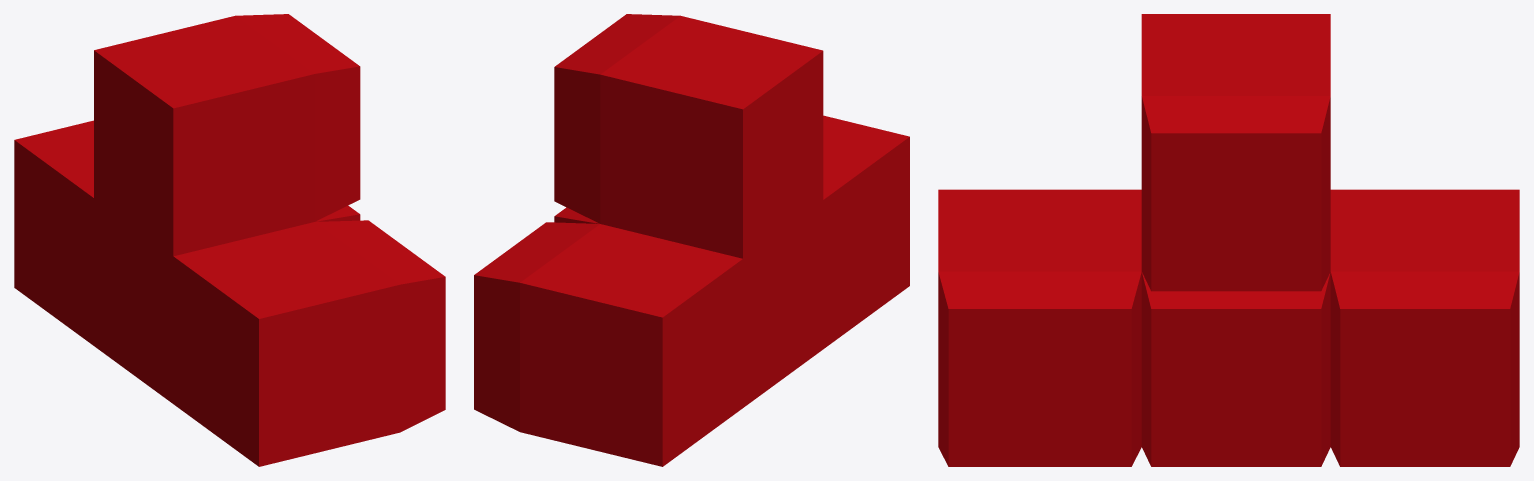
The model's file is teris-t-kol.dae.
The picture shows the model from 3 angles, left to right: view 1: azimuth 30°, elevation 25°; view 2: azimuth 150°, elevation 25°; view 3: azimuth 270°, elevation 25°; orthographic projection. The views are drawn at different scales.
Parts seen in each view (by area): view 1: Cube_004; view 2: Cube_004; view 3: Cube_004.
Boxes of the visible parts, x1,y1,x2,y2 form: Cube_004: (14, 14, 445, 466); Cube_004: (474, 14, 909, 466); Cube_004: (938, 14, 1519, 466).
Bounding box in the file's own units: 2.7 × 6 × 4.
